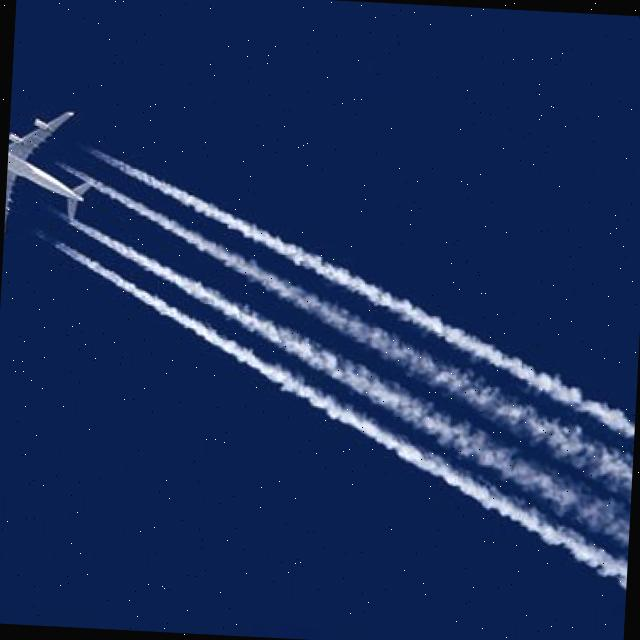Ct: (1, 137, 640, 503)
